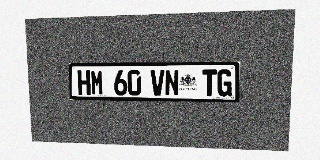0: (127, 70, 141, 96)
6: (114, 70, 127, 95)
G: (217, 69, 232, 96)
H: (77, 70, 91, 95)
M: (90, 70, 104, 95)
N: (165, 70, 179, 96)
T: (202, 69, 217, 96)
V: (151, 70, 164, 96)
